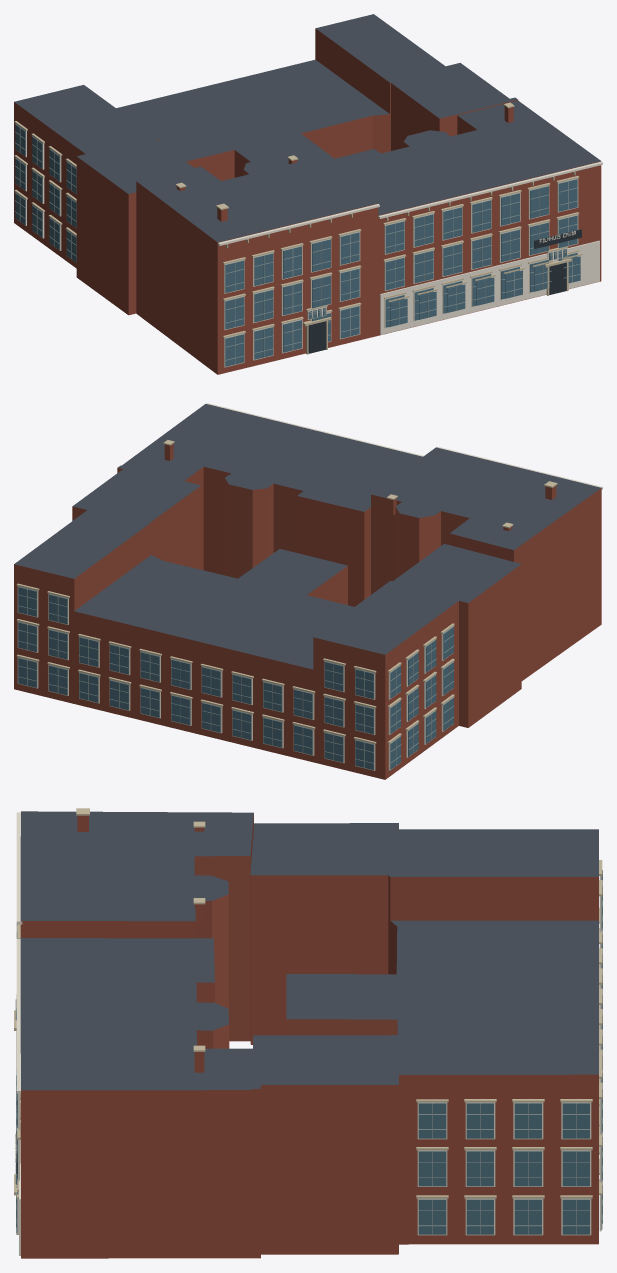
The model's file is cavia.glb.
The picture shows the model from 3 angles, top to bottom: view 1: azimuth 30°, elevation 25°; view 2: azimuth 150°, elevation 25°; view 3: azimuth 270°, elevation 25°; orthographic projection. The views are drawn at different scales.
Parts seen in each view (by area): view 1: cavia; view 2: cavia; view 3: cavia.
Part boxes in pixels (bbox=[...]): cavia: bbox=[14, 14, 602, 374]; cavia: bbox=[14, 403, 602, 779]; cavia: bbox=[14, 808, 602, 1258].
Size of the model in its own units: 45.94 by 16.43 by 42.99.
